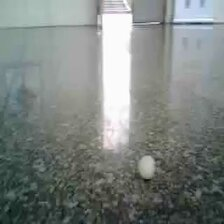w: (137, 155, 158, 181)
